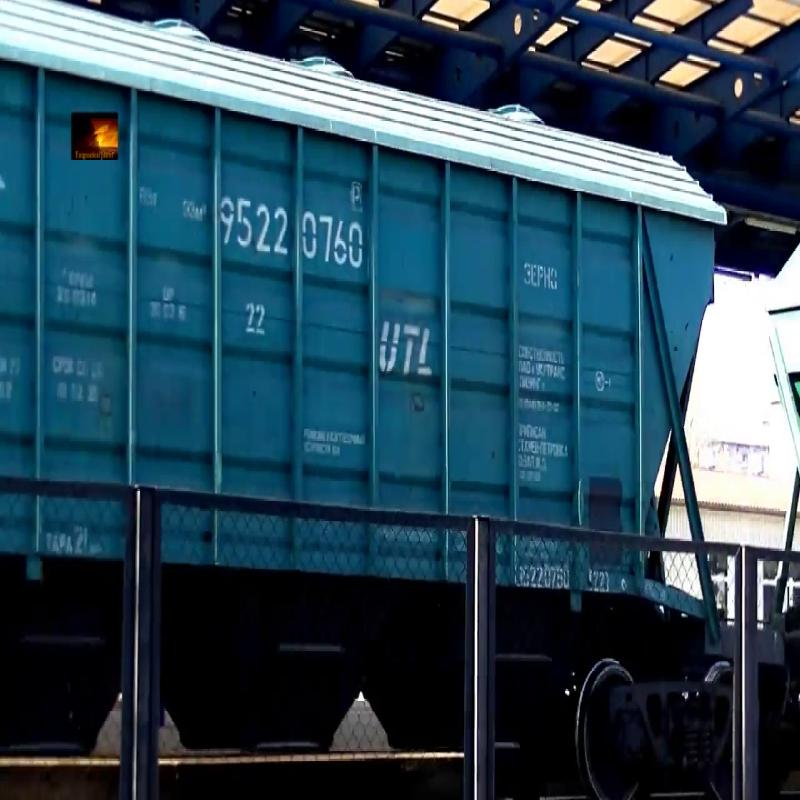train: (1, 2, 739, 742), (742, 6, 800, 725)
